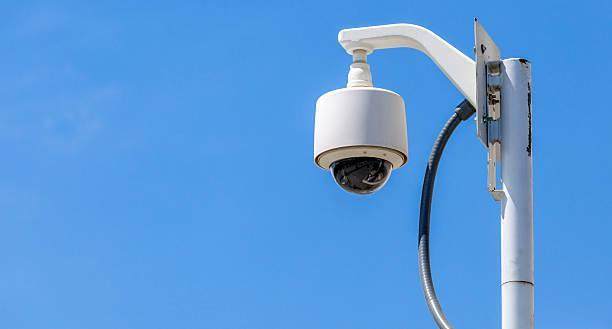360-Cam: (307, 82, 414, 199)
